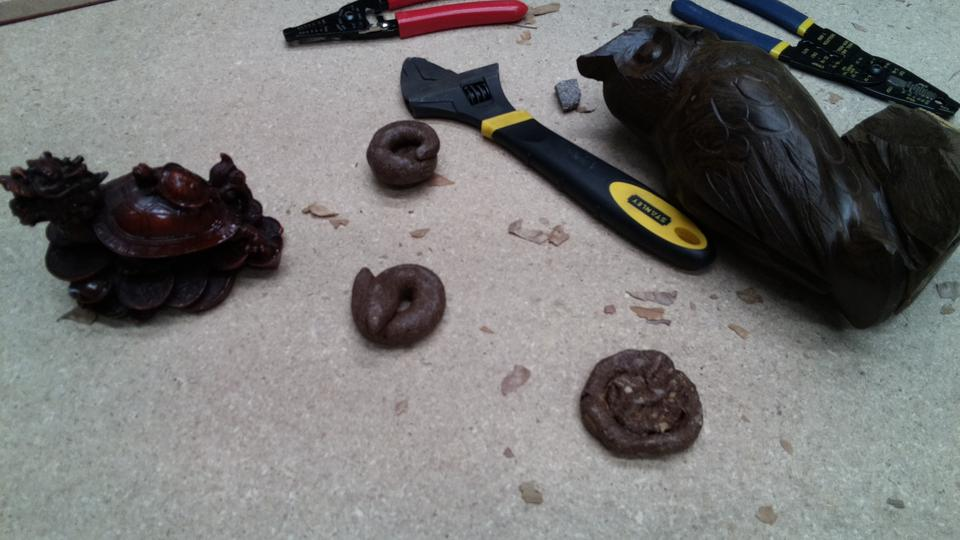poop: (575, 345, 708, 461), (347, 262, 448, 350), (364, 118, 445, 195)
